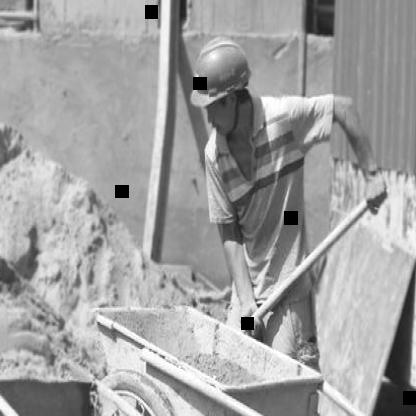helmet: (184, 26, 258, 146)
